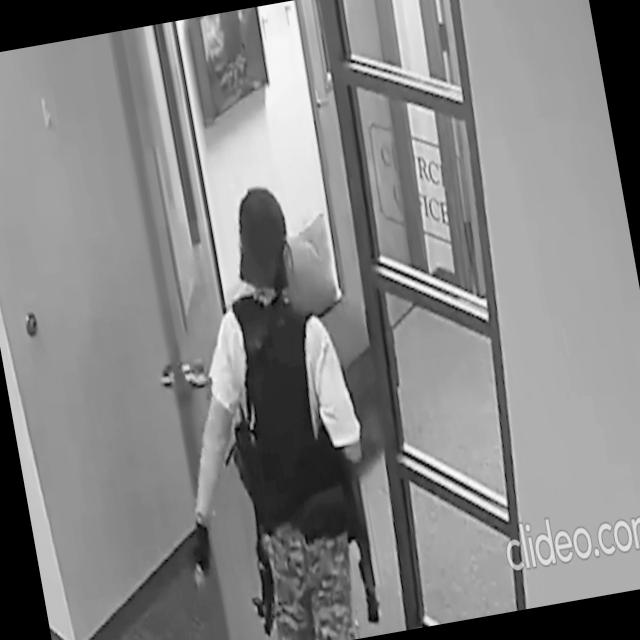gun: (217, 400, 290, 638), (333, 435, 387, 628)
person with a gun: (126, 173, 396, 640)
